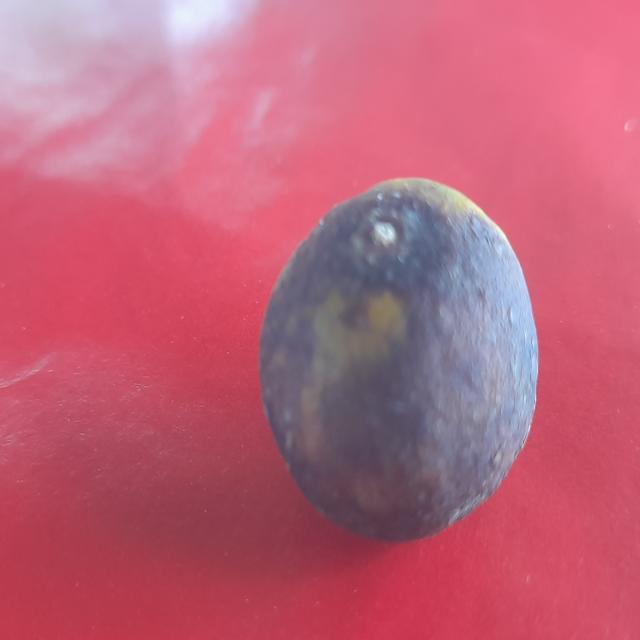black spot: (247, 162, 535, 540)
